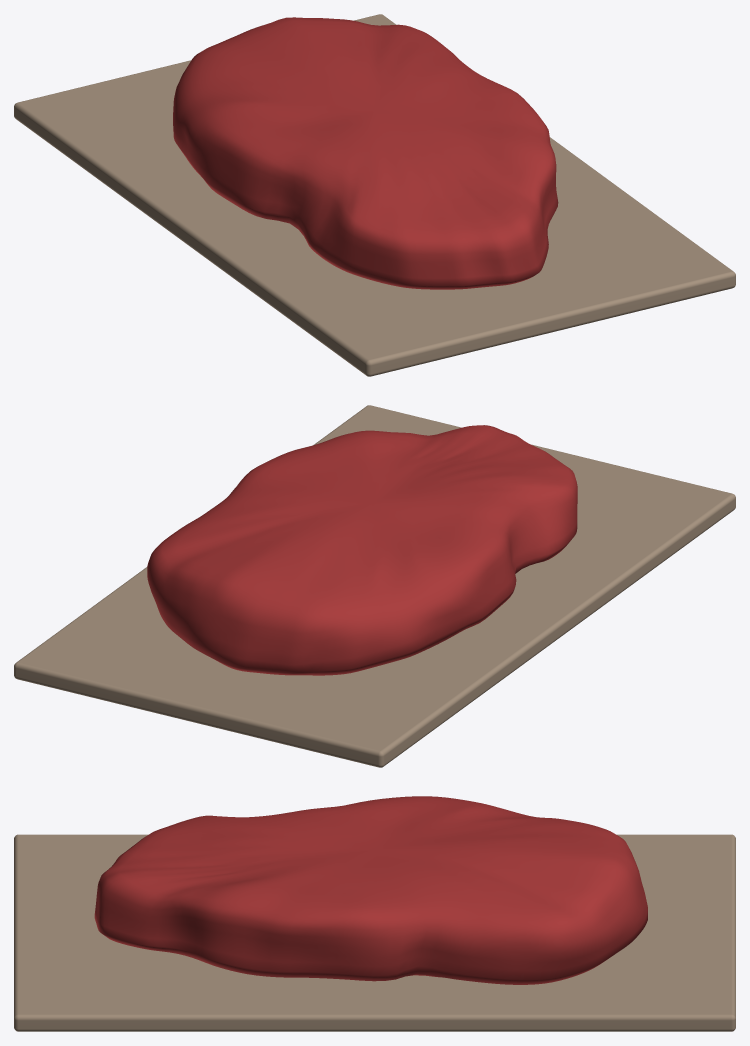
The model's file is MeatGeo.fbx.
3 views of the same model, one above another, from view 1: azimuth 30°, elevation 25°; view 2: azimuth 150°, elevation 25°; view 3: azimuth 270°, elevation 25° (orthographic).
Visible parts, largest first — view 1: meatgeo; view 2: meatgeo; view 3: meatgeo.
Part boxes in pixels (x1,y1,x2,y2): meatgeo: (14,14,735,376); meatgeo: (14,405,735,767); meatgeo: (14,796,735,1031).
Bounding box in the file's own units: 93.07 × 23.45 × 155.
